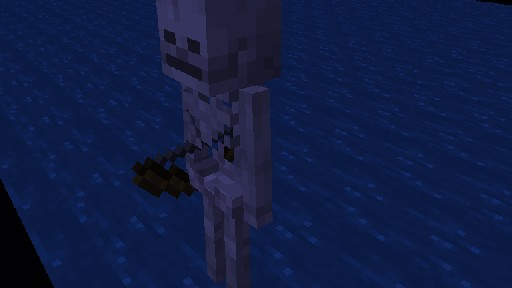skeleton: (131, 0, 283, 288)
